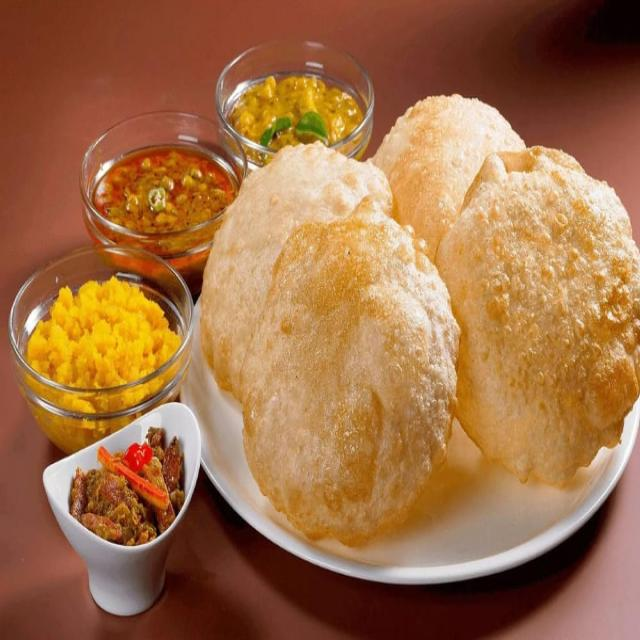poori: (239, 205, 462, 559), (440, 134, 640, 493), (190, 141, 387, 385), (374, 79, 518, 233)
